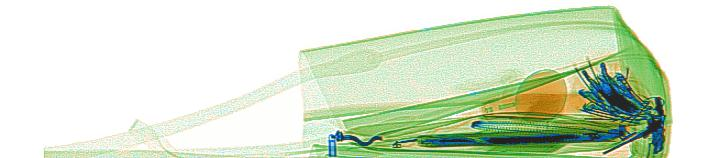plasticBottleWithaNozzle: (452, 52, 622, 127)
